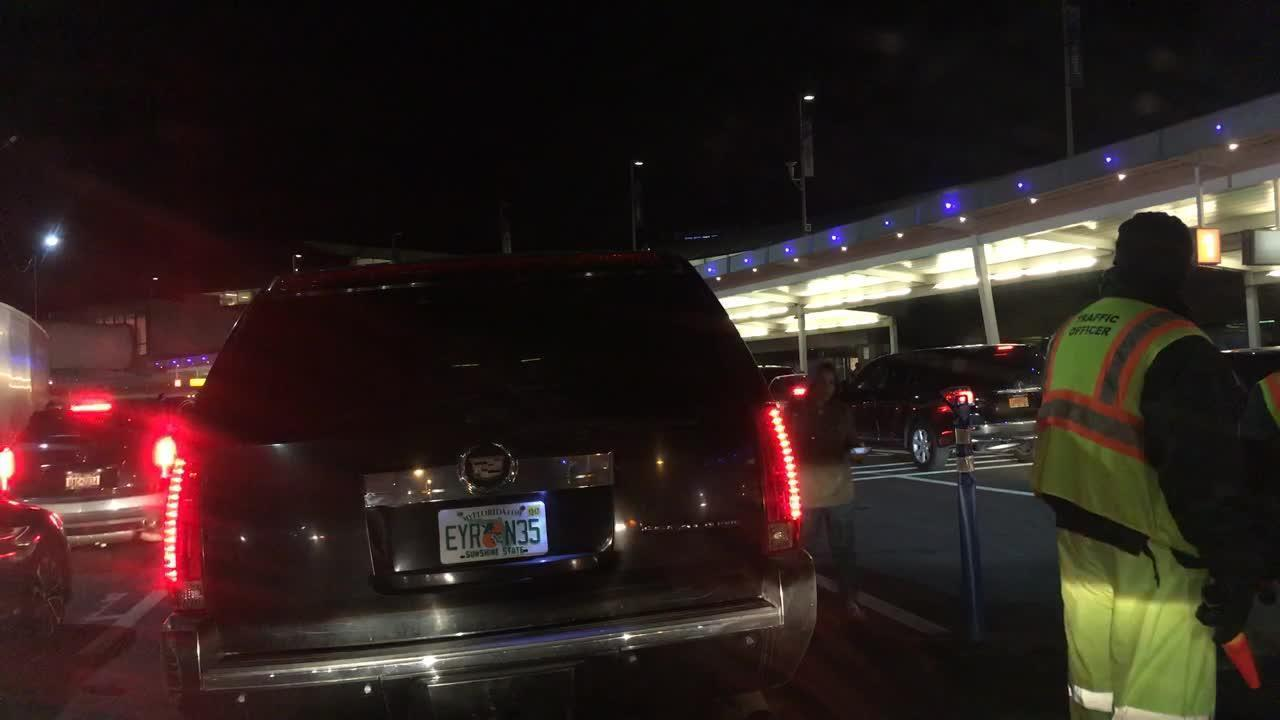cadillac: (452, 426, 527, 492)
